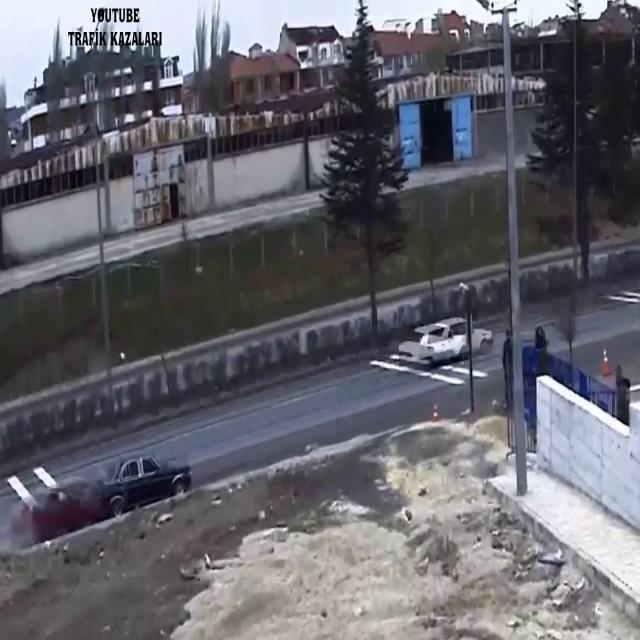accident: (18, 450, 190, 552)
